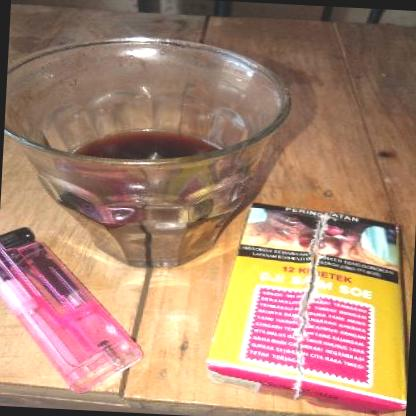objects: (204, 200, 415, 416)
